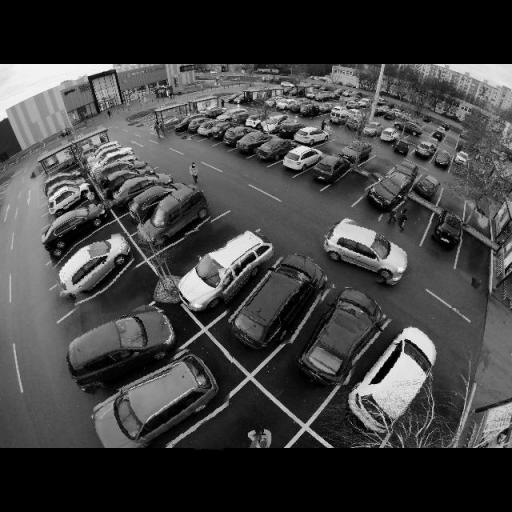busy: (92, 344, 231, 448), (62, 297, 180, 396), (347, 318, 437, 436), (288, 286, 386, 388), (222, 255, 325, 350), (172, 226, 274, 310), (320, 215, 410, 289), (51, 236, 136, 294), (138, 185, 211, 241), (43, 203, 109, 243), (363, 172, 410, 212), (110, 174, 165, 202), (132, 184, 182, 213), (94, 153, 146, 180), (308, 154, 351, 184), (428, 212, 462, 249), (47, 186, 95, 212), (91, 146, 136, 172), (100, 162, 150, 184), (256, 138, 294, 162), (282, 148, 320, 172), (291, 126, 328, 148), (238, 131, 271, 154), (412, 173, 439, 200), (220, 126, 252, 146), (260, 114, 290, 134), (44, 175, 81, 191), (340, 144, 370, 163), (187, 118, 218, 134), (206, 122, 234, 139), (278, 123, 303, 139), (377, 127, 399, 145), (222, 110, 250, 124), (431, 152, 452, 170), (274, 98, 299, 113), (173, 116, 198, 130), (361, 122, 383, 137), (298, 103, 320, 118), (413, 144, 435, 158), (392, 139, 411, 155), (325, 112, 347, 125), (345, 118, 362, 132)
free: (193, 418, 257, 449), (182, 229, 228, 259), (100, 284, 144, 312), (458, 246, 489, 274), (74, 230, 112, 250), (397, 208, 427, 232), (336, 179, 366, 197), (438, 194, 464, 212), (465, 204, 487, 225), (365, 159, 390, 174), (325, 142, 344, 154)
